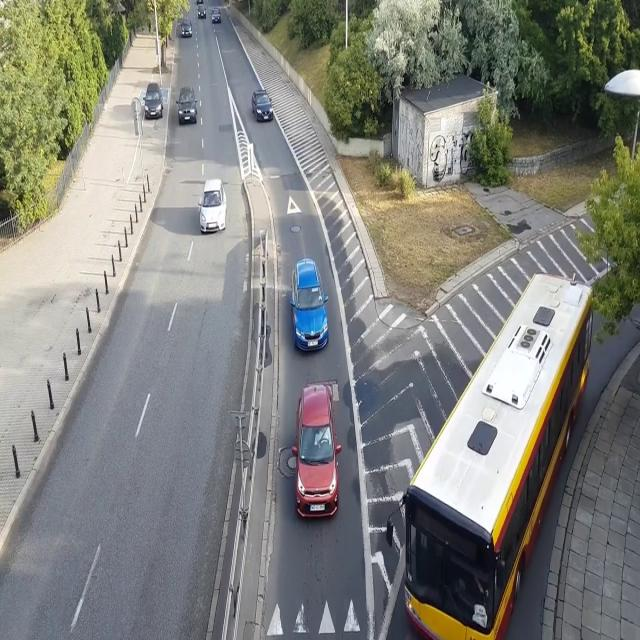bus: (383, 269, 594, 640)
car: (292, 382, 342, 524), (288, 258, 329, 355), (197, 178, 227, 235), (176, 85, 198, 125), (143, 83, 163, 119), (251, 90, 273, 122), (180, 18, 192, 39), (211, 8, 221, 24), (197, 4, 207, 20)
